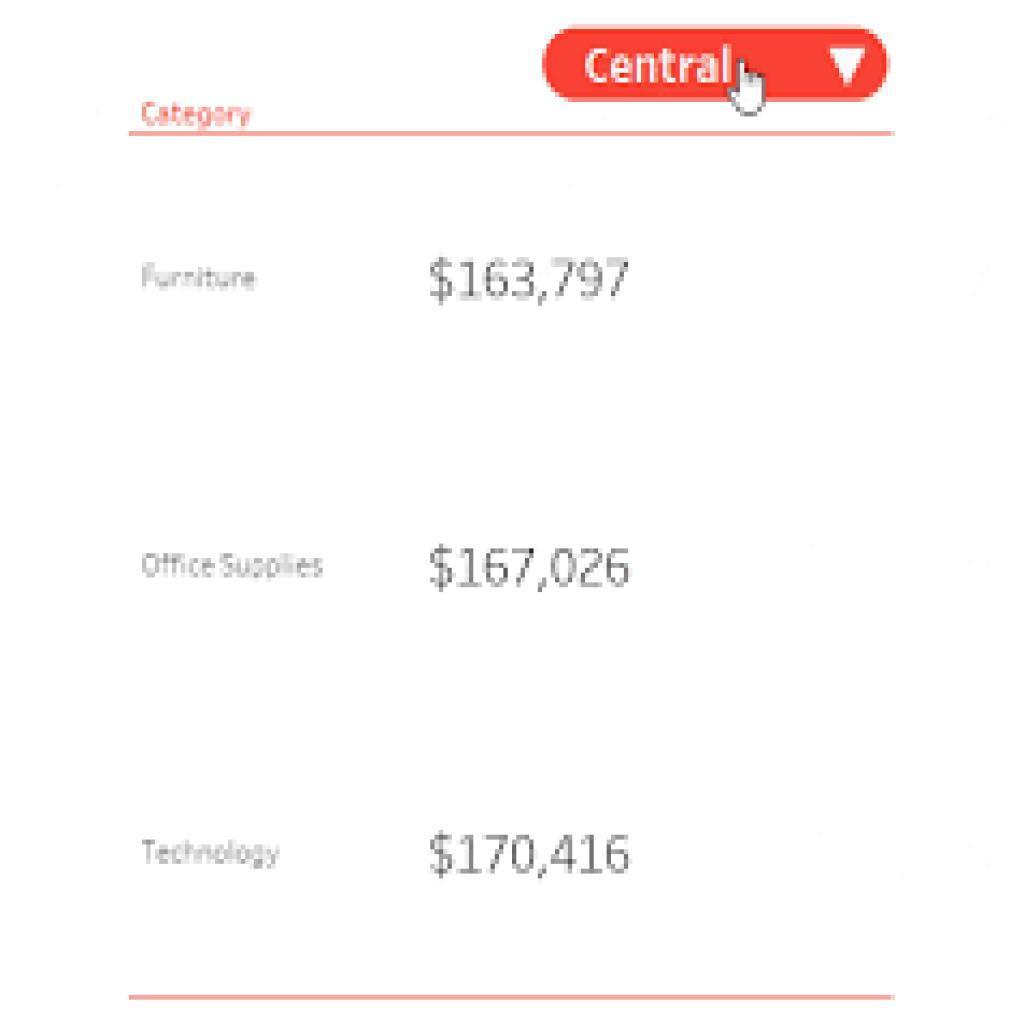dropdown: (545, 26, 889, 101)
